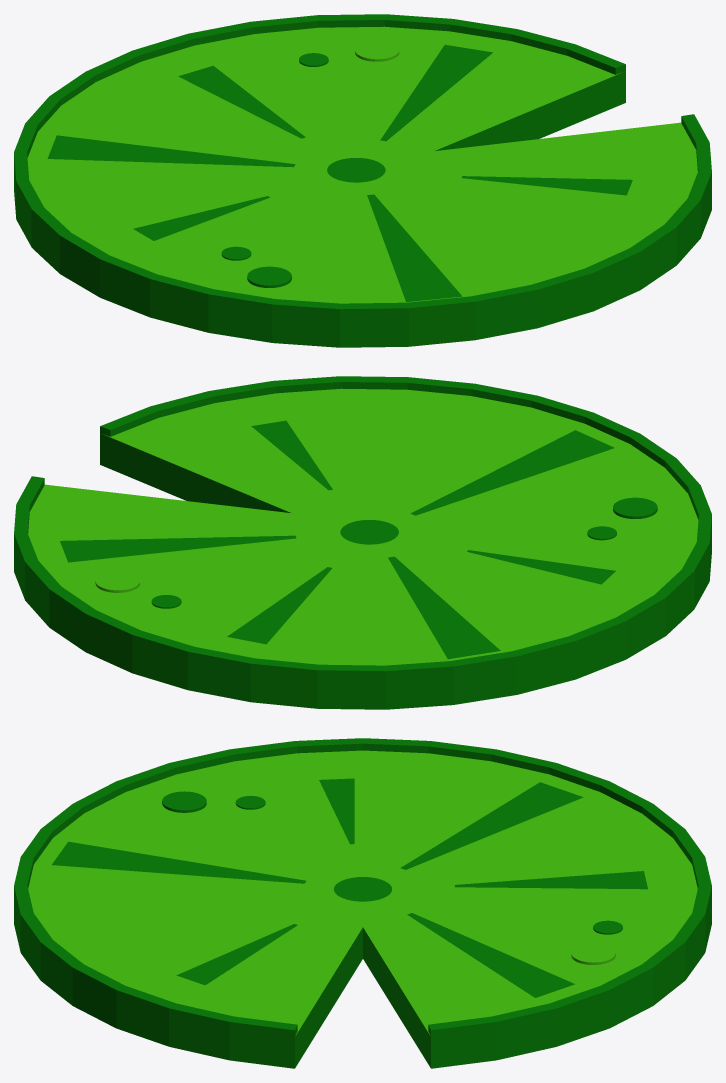
Rendered from Waterlilyleaf.fbx.
3 views of the same model, one above another, from view 1: azimuth 30°, elevation 25°; view 2: azimuth 150°, elevation 25°; view 3: azimuth 270°, elevation 25° (orthographic).
Visible parts, largest first — view 1: Cylinder.004; view 2: Cylinder.004; view 3: Cylinder.004.
Part boxes in pixels (bbox=[...]): Cylinder.004: bbox=[14, 14, 711, 347]; Cylinder.004: bbox=[14, 376, 711, 709]; Cylinder.004: bbox=[14, 738, 711, 1068].
Size of the model in its own units: 1.98 by 0.1218 by 2.
